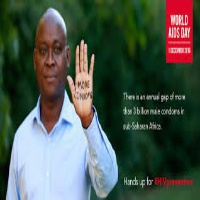ring: (84, 44, 87, 75)
